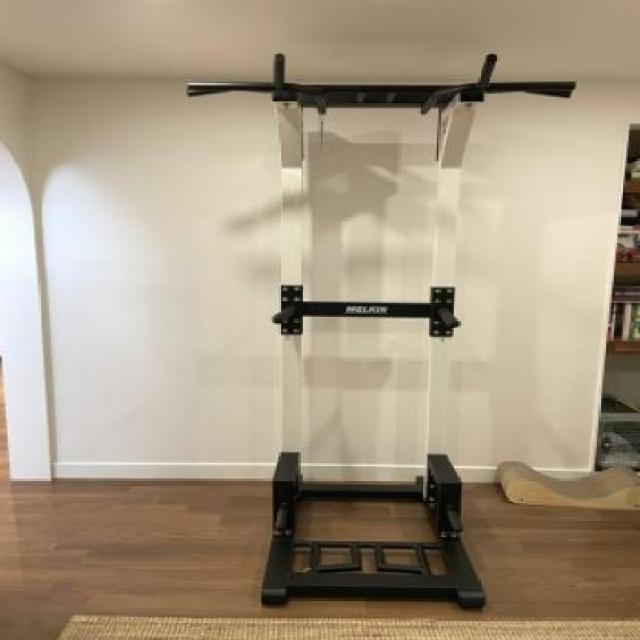chinning dipping: (188, 52, 575, 611)
